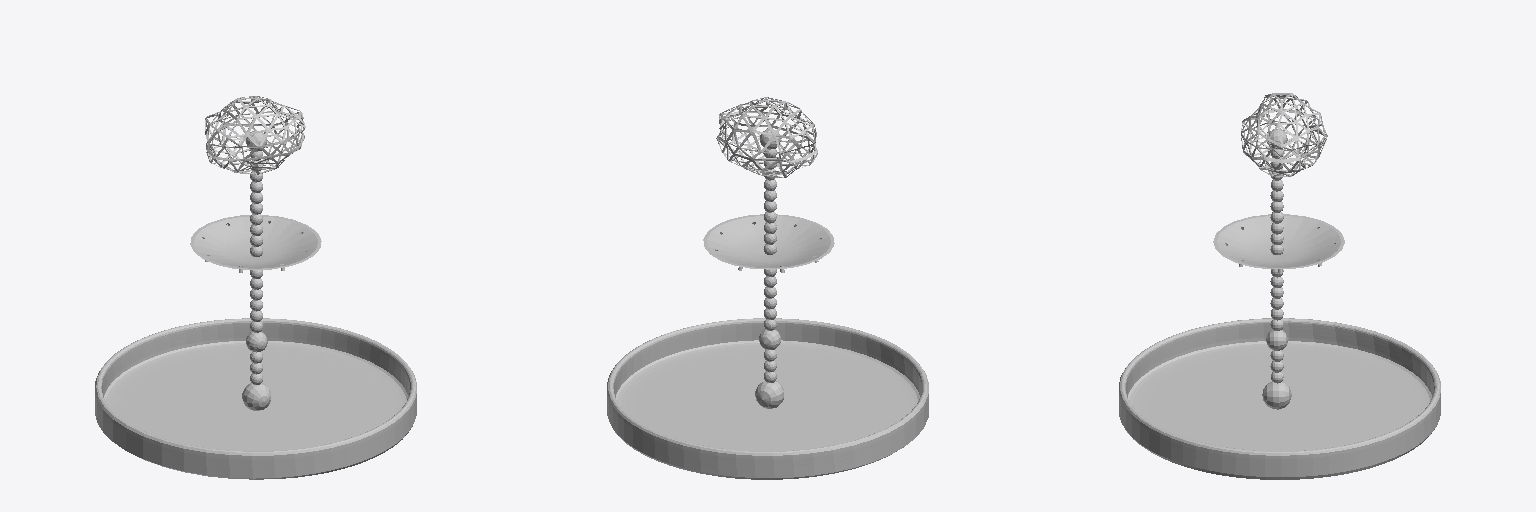
File: Le Nuage d'Oort.obj
3 renders of one model, left to right at view 1: azimuth 30°, elevation 25°; view 2: azimuth 150°, elevation 25°; view 3: azimuth 270°, elevation 25°, orthographic.
Parts seen in each view (by area): view 1: Cylinder001, Line001, GeoSphere001, Sphere023; view 2: Cylinder001, Line001, GeoSphere001, Sphere023; view 3: Cylinder001, Line001, GeoSphere001, Sphere023.
Boxes of the visible parts, x1=… form: Cylinder001: x1=95, y1=318, x2=416, y2=479; Line001: x1=190, y1=215, x2=321, y2=272; GeoSphere001: x1=205, y1=96, x2=305, y2=174; Sphere023: x1=242, y1=383, x2=270, y2=410; Cylinder001: x1=607, y1=318, x2=928, y2=479; Line001: x1=703, y1=214, x2=834, y2=272; GeoSphere001: x1=716, y1=97, x2=817, y2=177; Sphere023: x1=755, y1=381, x2=783, y2=408; Cylinder001: x1=1119, y1=318, x2=1440, y2=479; Line001: x1=1213, y1=214, x2=1344, y2=273; GeoSphere001: x1=1241, y1=93, x2=1327, y2=176; Sphere023: x1=1262, y1=381, x2=1291, y2=409.
Size of the model in its own units: 47.68 by 51.1 by 47.68.